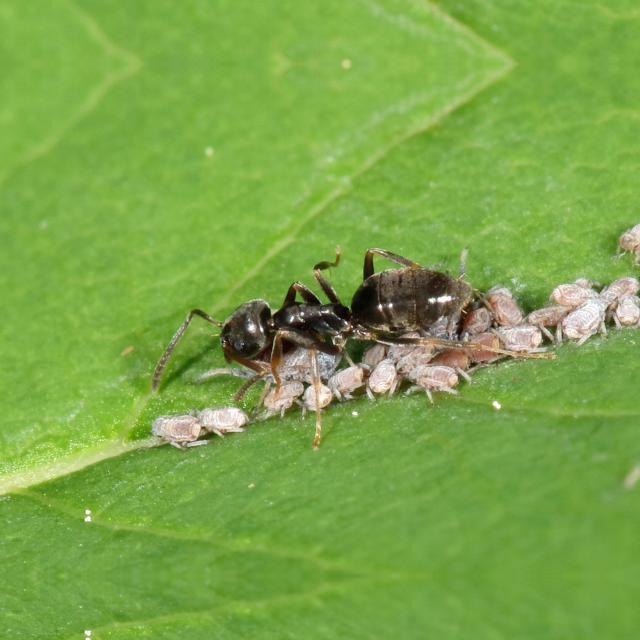Tapinoma: (175, 239, 513, 401)
